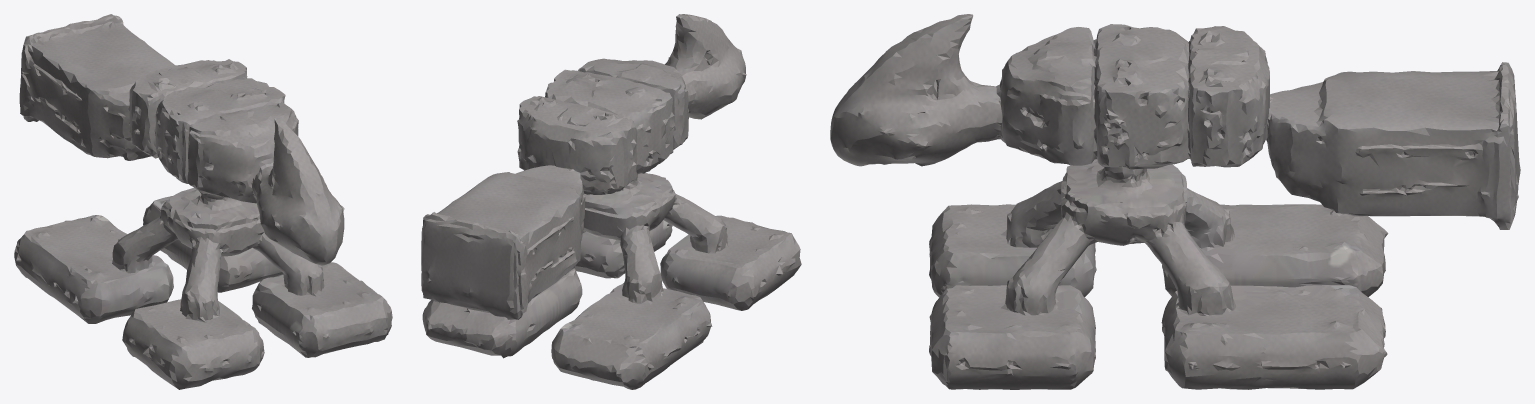
Rendered from architect_sketch_bw.glb.
3 views of the same model, side by side, from view 1: azimuth 30°, elevation 25°; view 2: azimuth 150°, elevation 25°; view 3: azimuth 270°, elevation 25° (orthographic). The views are drawn at different scales.
Visible parts, largest first — view 1: Architect_Sketch_BW; view 2: Architect_Sketch_BW; view 3: Architect_Sketch_BW.
Part boxes in pixels (x1=…): Architect_Sketch_BW: x1=14, y1=14, x2=392, y2=389; Architect_Sketch_BW: x1=421, y1=14, x2=801, y2=389; Architect_Sketch_BW: x1=830, y1=14, x2=1520, y2=389.
Bounding box in the file's own units: 0.9457 × 0.941 × 1.89.
Materials: 1 (1 with a texture image).
